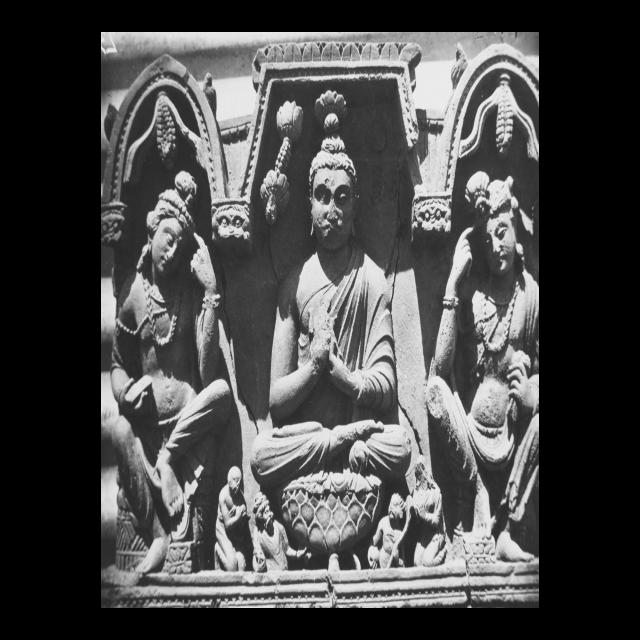buddha-sitting: (251, 91, 410, 568)
